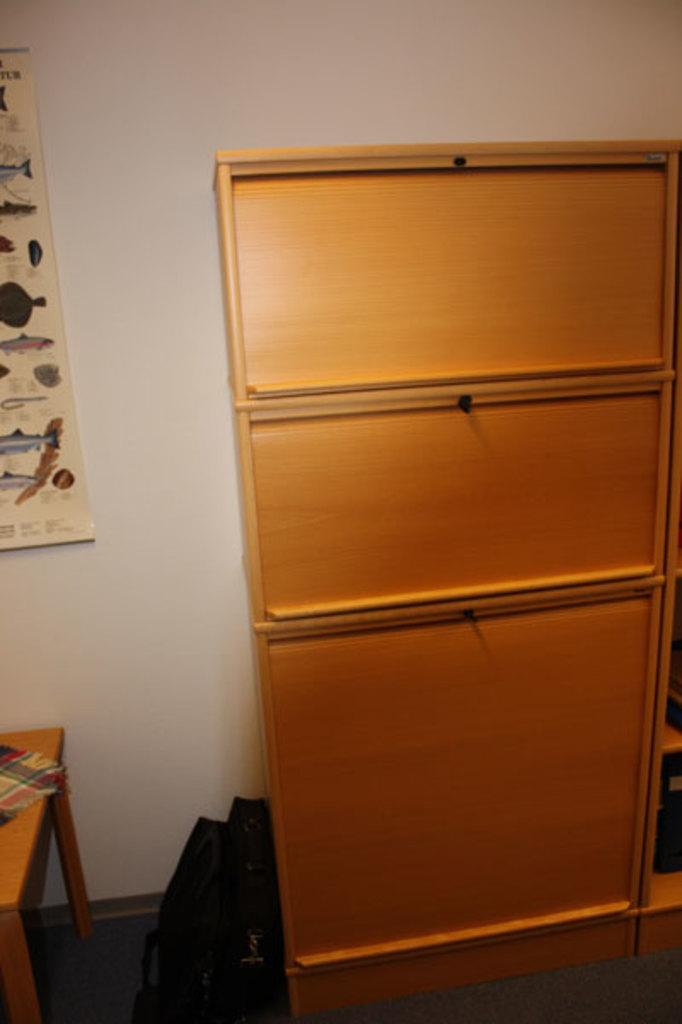Luggage-and-bags: (132, 793, 284, 1021)
